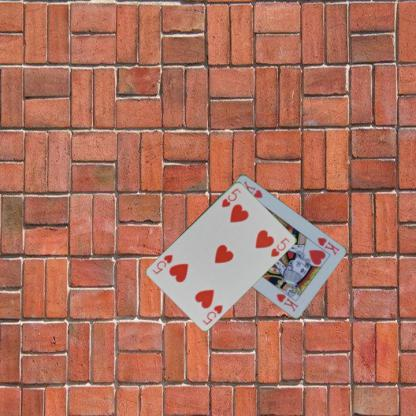5h: (200, 302, 224, 326), (219, 186, 242, 208)
Kh: (314, 235, 340, 257)
